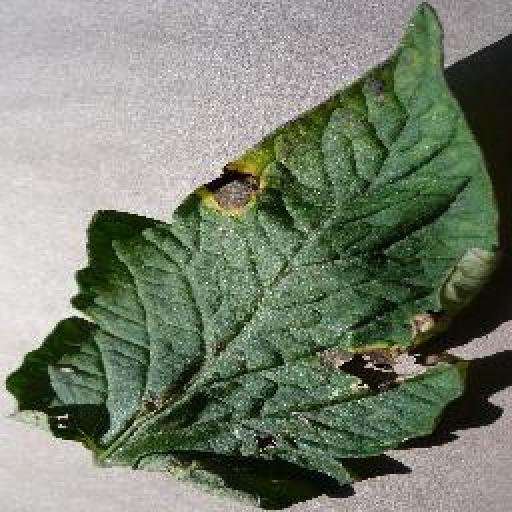disease_tomato: (14, 1, 500, 507)
